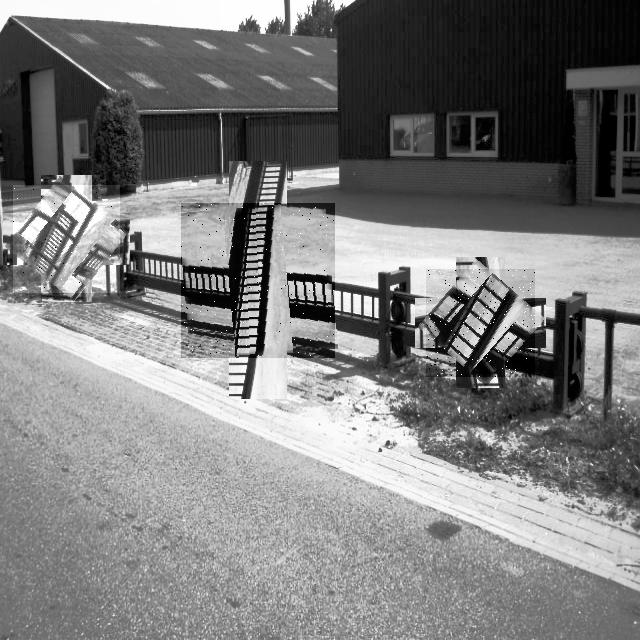fences: (181, 203, 335, 358), (426, 269, 535, 377), (13, 185, 120, 293)
